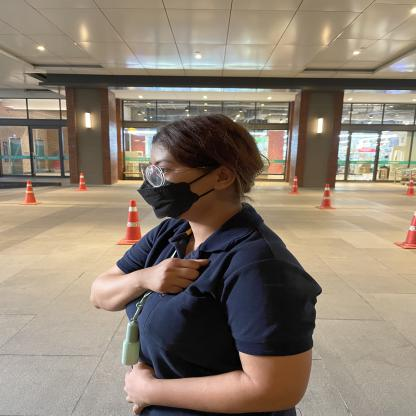Sadness: (65, 246, 259, 324)
